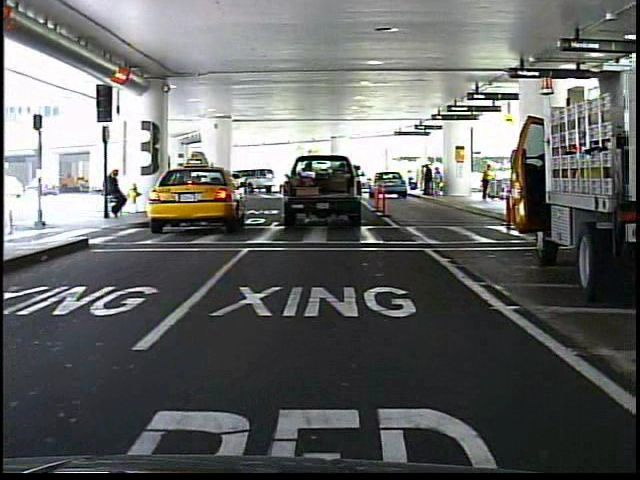person: (105, 164, 129, 222), (480, 159, 499, 206)
